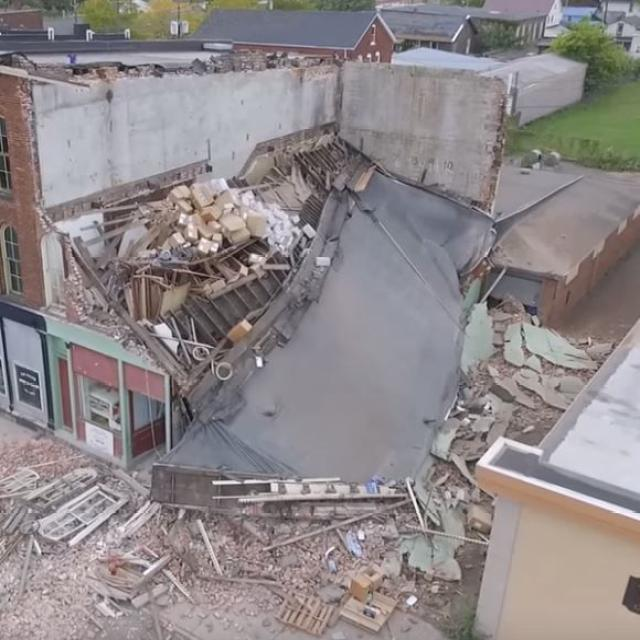collapsed_building: (62, 153, 489, 533)
